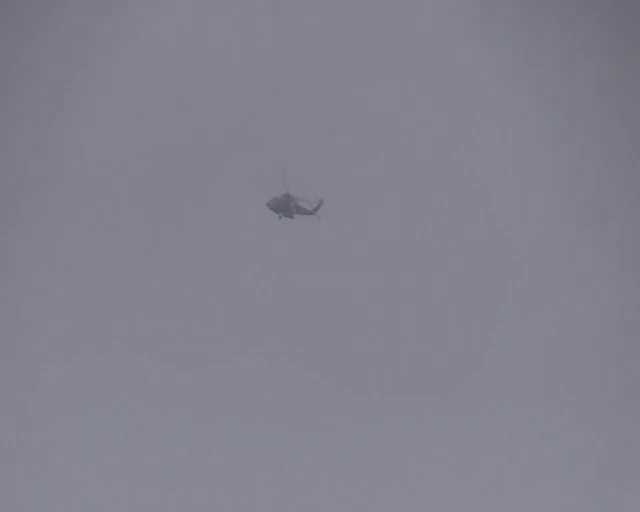HELICOPTER: (265, 188, 324, 220)
